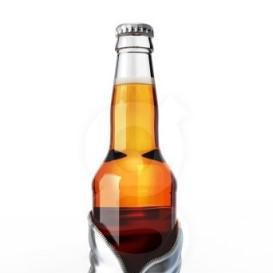beer: (88, 22, 182, 272)
